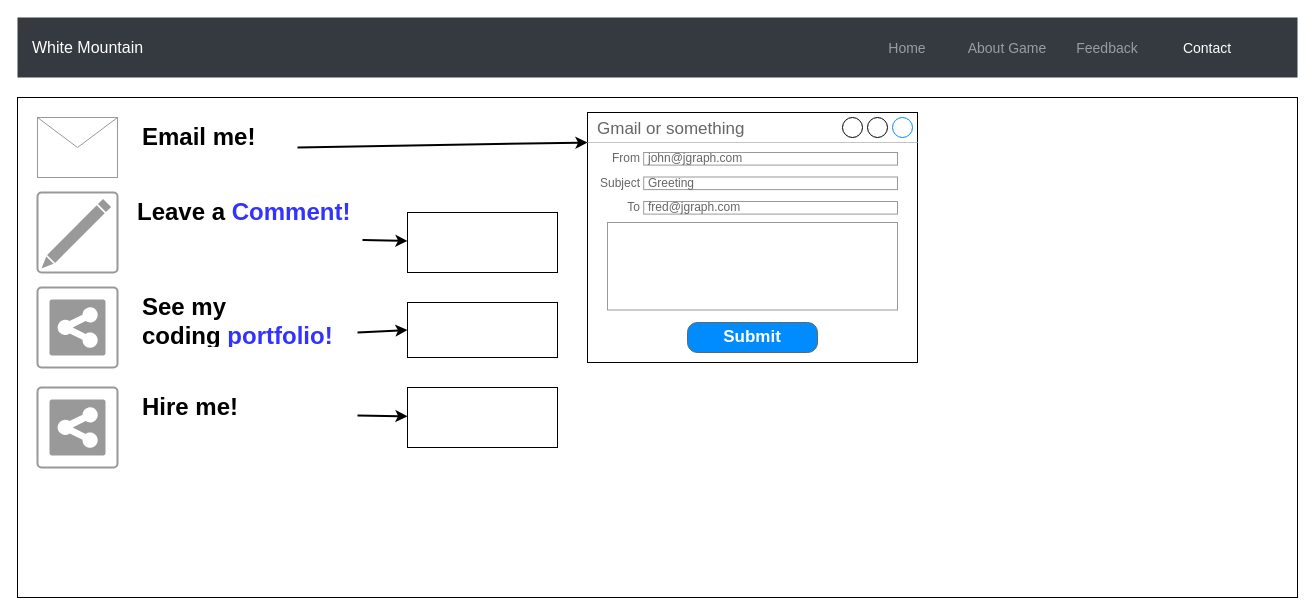
Some shapes in this 1315 by 615 pixel diagram are drawn without their labels. The centre of each missing label's shape, as x and y in pixels:
Blah blah email stuff: (x=752, y=266)
Link to LinkedIn: (x=482, y=417)
Link to my GitHub: (x=482, y=330)
Links to Feedback page: (x=482, y=242)
